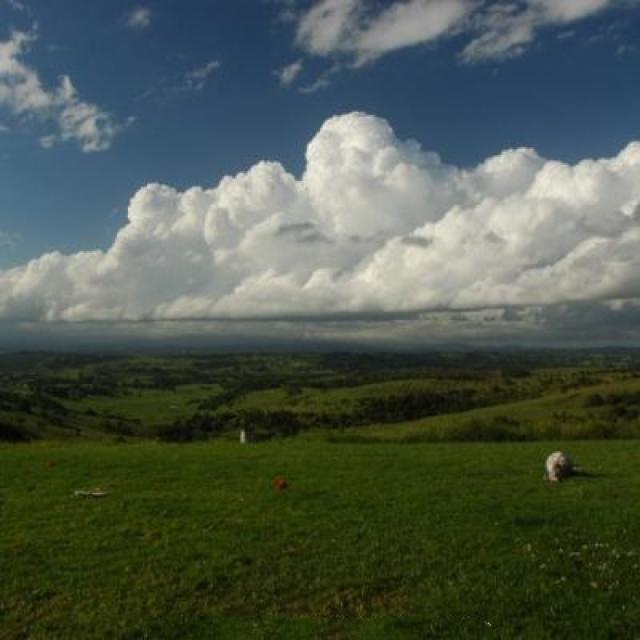Cu: (1, 81, 640, 341)
